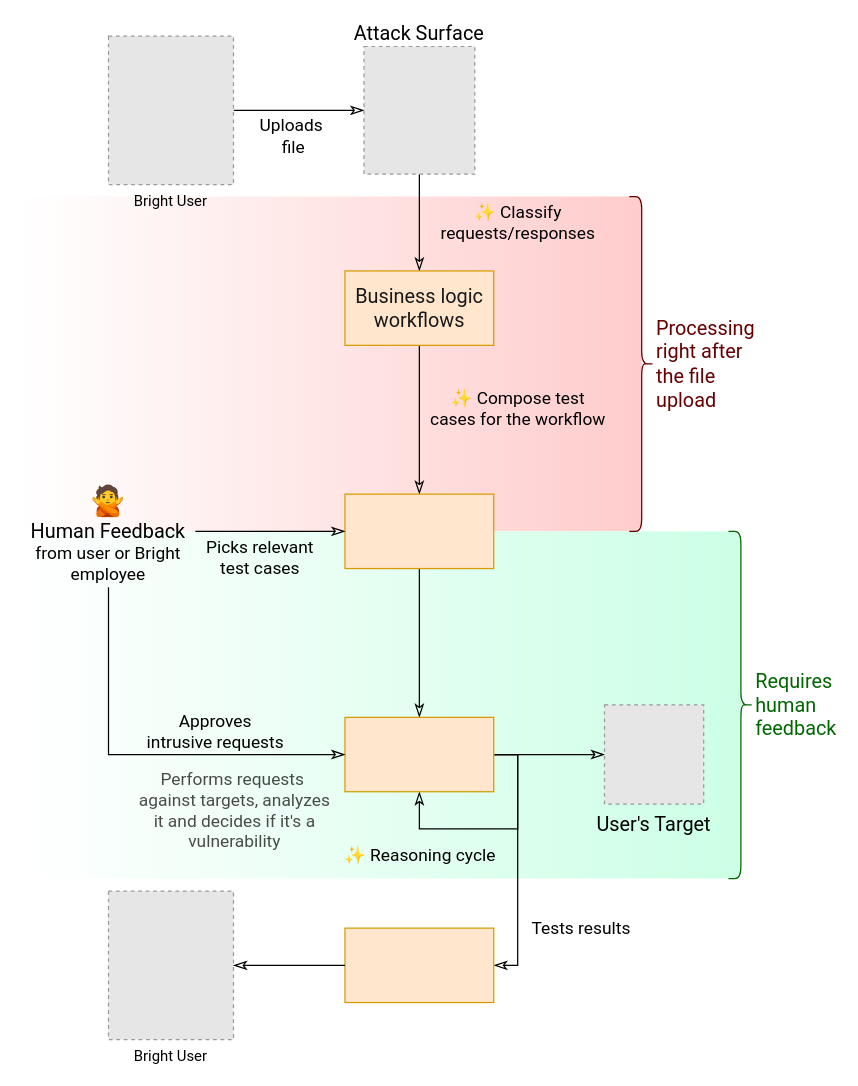
The diagram is 858 pixels wide and 1086 high, and some of its shapes have lost their labels. Grey dashed boxes stand in for pictures. The centre of each missing label's shape, as x and y in pixels:
"Agent" goes at (419,754).
"Bright UI" goes at (419,965).
"Test Cases" goes at (419,531).
